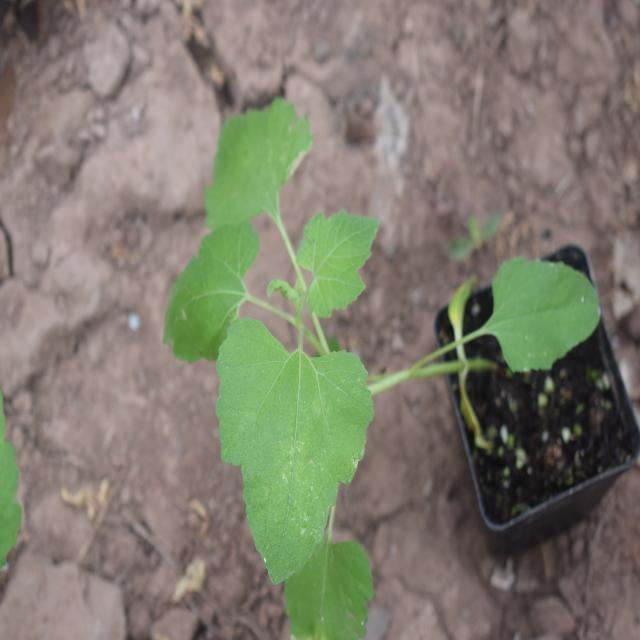cocklebur: (172, 105, 452, 569)
